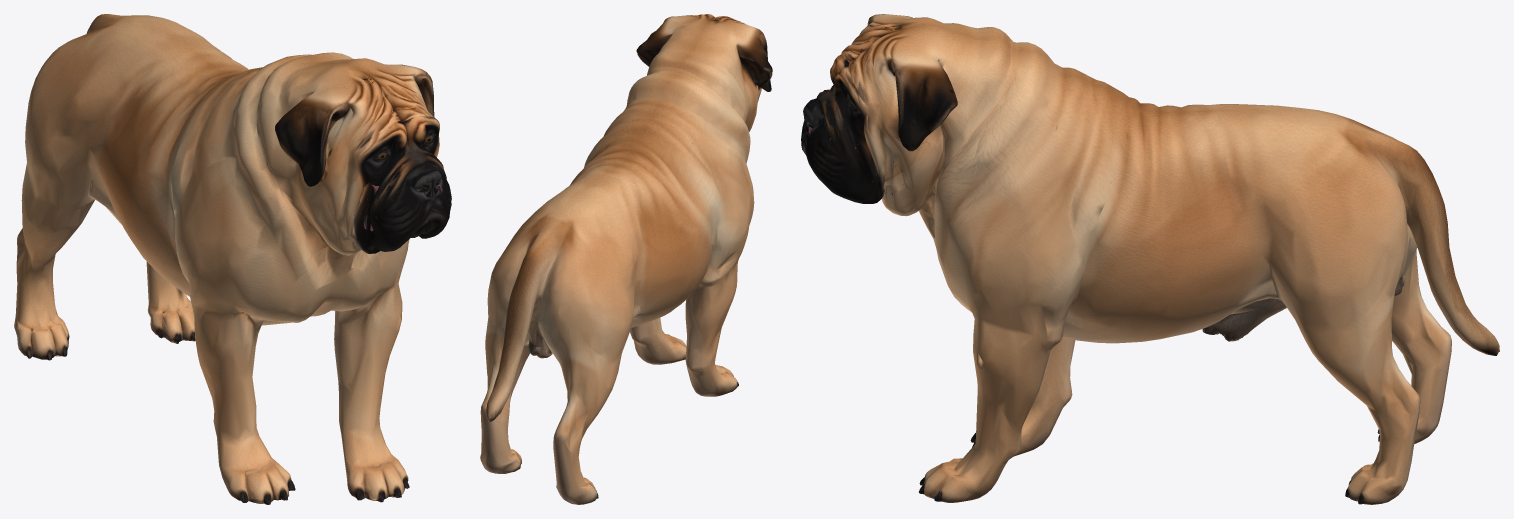
Rendered from english_mastiff_anatomy.glb.
3 views of the same model, side by side, from view 1: azimuth 30°, elevation 25°; view 2: azimuth 150°, elevation 25°; view 3: azimuth 270°, elevation 25° (orthographic). The views are drawn at different scales.
Visible parts, largest first — view 1: DM_CoatAndUpperHead, DM_Mandible; view 2: DM_CoatAndUpperHead; view 3: DM_CoatAndUpperHead, DM_Mandible.
Boxes of the visible parts, <box> form: DM_CoatAndUpperHead: <box>14,14,451,504</box>; DM_Mandible: <box>345,209,449,253</box>; DM_CoatAndUpperHead: <box>480,14,772,504</box>; DM_CoatAndUpperHead: <box>801,14,1499,504</box>; DM_Mandible: <box>808,151,929,216</box>.
Bounding box in the file's own units: 0.6535 × 1.34 × 1.9.
11 materials, 1 textured.
